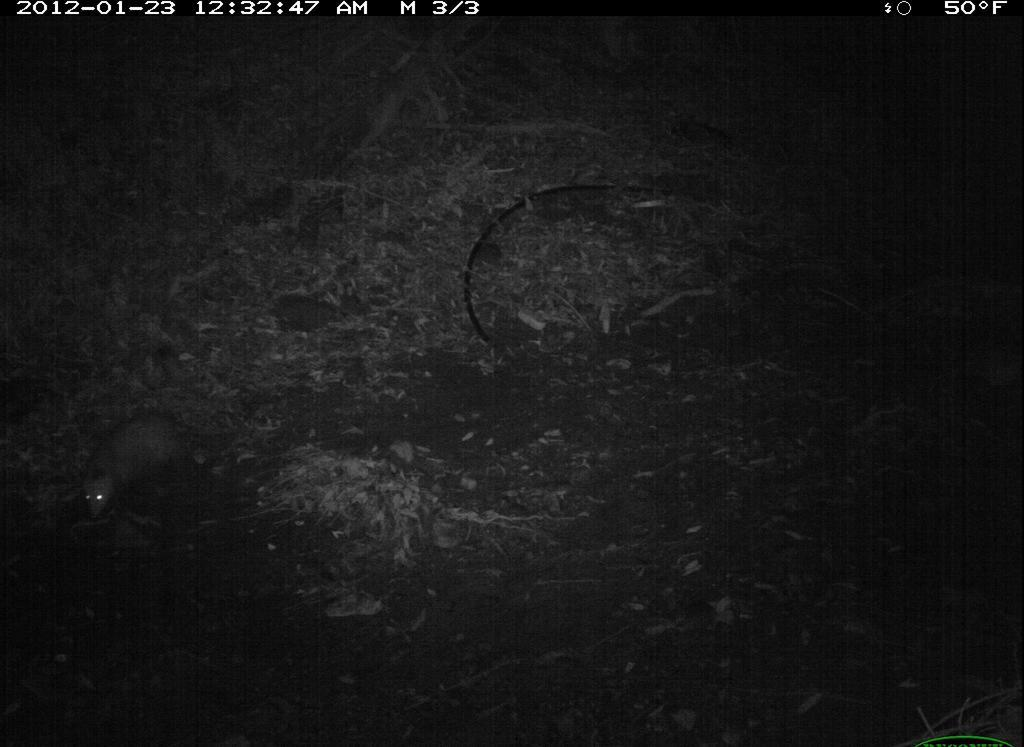opossum: (67, 396, 223, 524)
